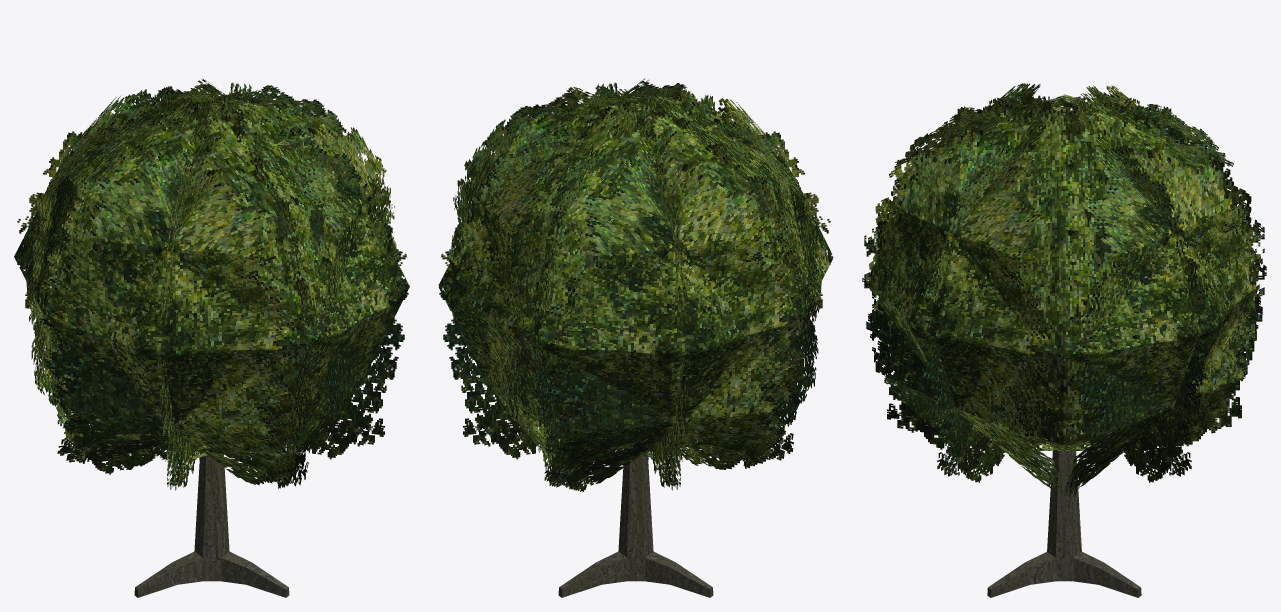
File: tree06.glb
The picture shows the model from 3 angles, left to right: view 1: azimuth 30°, elevation 25°; view 2: azimuth 150°, elevation 25°; view 3: azimuth 270°, elevation 25°; orthographic projection.
Visible parts, largest first — view 1: tree06_top, tree06; view 2: tree06_top, tree06; view 3: tree06_top, tree06.
Boxes of the visible parts, box(x1,y1,x2,y2) form: tree06_top: box(14, 79, 409, 490); tree06: box(134, 230, 289, 597); tree06_top: box(438, 78, 833, 492); tree06: box(558, 336, 713, 597); tree06_top: box(862, 83, 1266, 497); tree06: box(987, 212, 1141, 597).
Size of the model in its own units: 3.16 by 4.13 by 3.16.
1 material, 1 textured.
